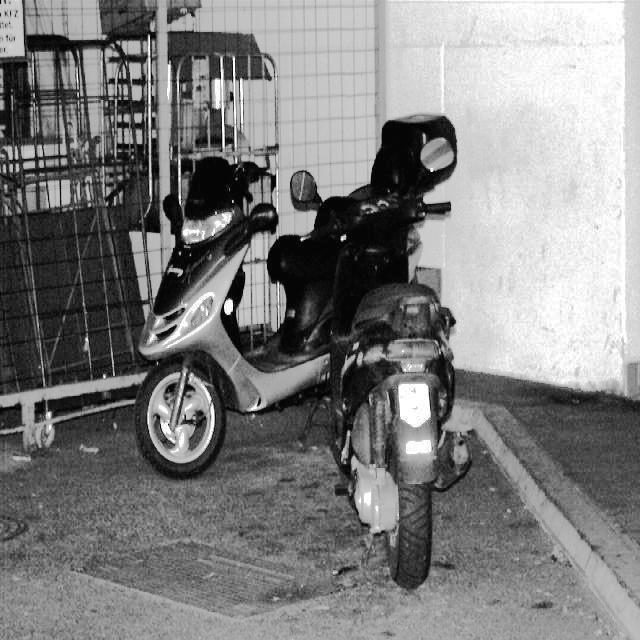Motorcycle: (146, 106, 418, 482), (290, 94, 485, 593)
